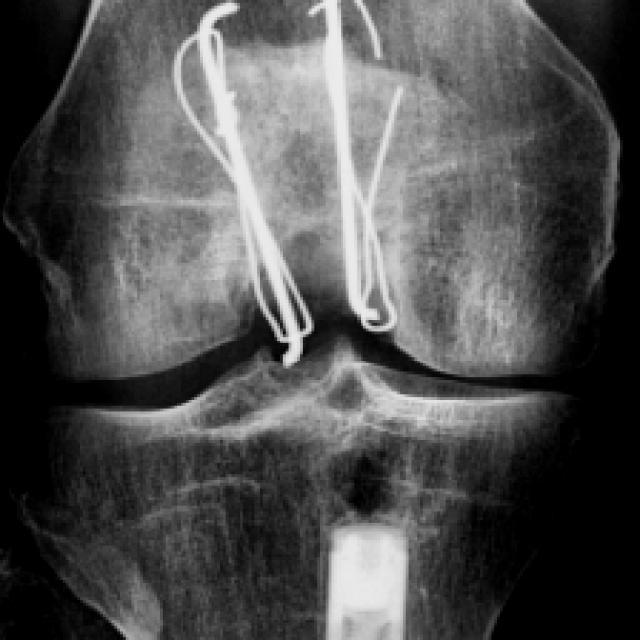femur: (3, 0, 617, 380)
tibia: (11, 332, 591, 640)
